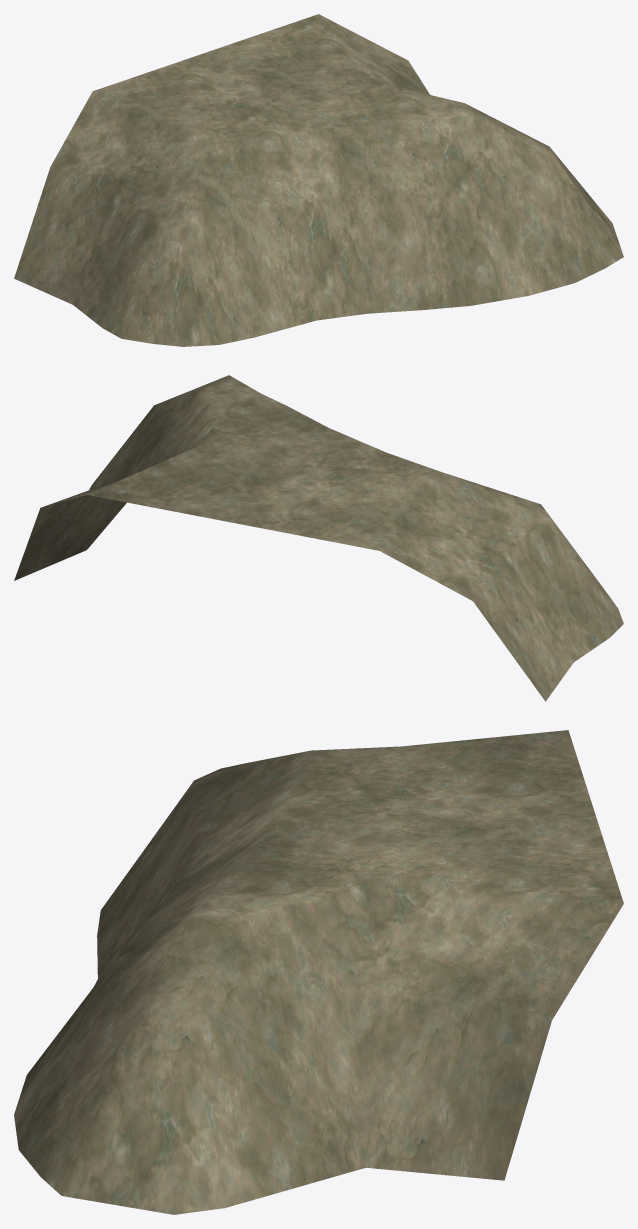
Rendered from OVERHILL_A_01_OBJECT163.fbx.
3 renders of one model, top to bottom at view 1: azimuth 30°, elevation 25°; view 2: azimuth 150°, elevation 25°; view 3: azimuth 270°, elevation 25°, orthographic. The views are drawn at different scales.
Visible parts, largest first — view 1: OVERHILL_A_01_OBJECT163; view 2: OVERHILL_A_01_OBJECT163; view 3: OVERHILL_A_01_OBJECT163.
Boxes of the visible parts, box(x1,y1,x2,y2) form: OVERHILL_A_01_OBJECT163: box(14, 14, 623, 346); OVERHILL_A_01_OBJECT163: box(14, 375, 623, 701); OVERHILL_A_01_OBJECT163: box(14, 730, 623, 1214).
Size of the model in its own units: 261242 by 68807 by 181736.
Materials: 2 (2 with a texture image).
